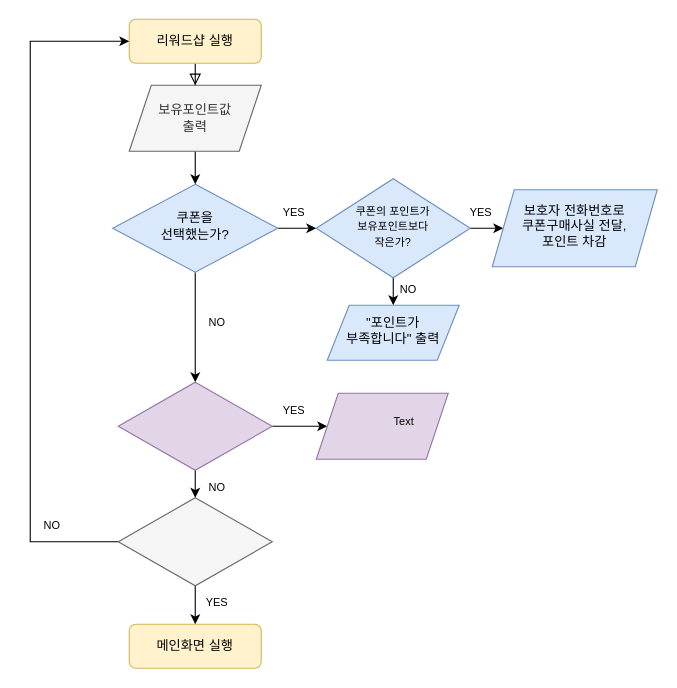
This 677x688 diagram has some shape labels left out. Here are the shapes that lost their labels. From the top down, the box of each, then its label:
(117, 381, 272, 470): 쿠폰추가를 눌렀는가?
(315, 392, 448, 459): 입력된 값으로 쿠폰 설정
(117, 497, 272, 586): 메인화면을 눌렀는가?
